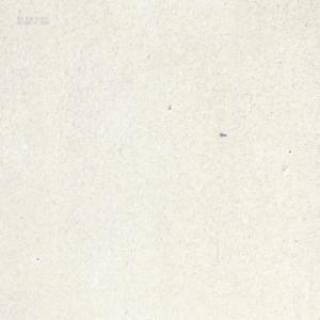Nailtrack_idkeyframe: (218, 131, 226, 136)
